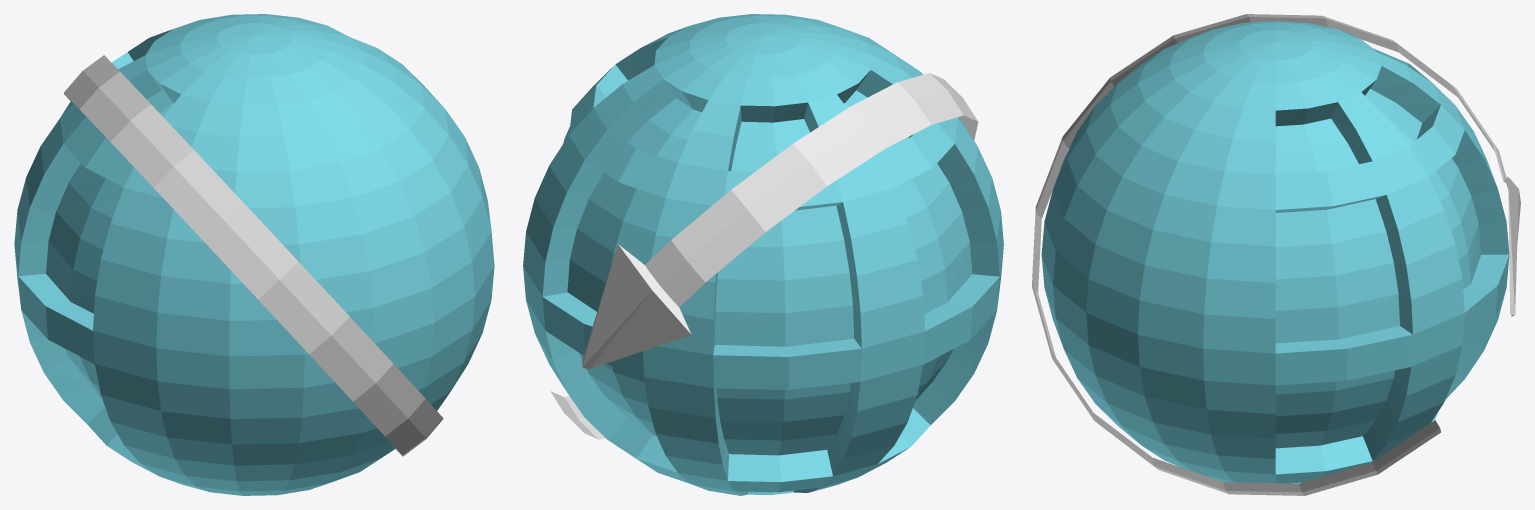
Rendered from interneticon.fbx.
3 renders of one model, left to right at view 1: azimuth 30°, elevation 25°; view 2: azimuth 150°, elevation 25°; view 3: azimuth 270°, elevation 25°, orthographic. The views are drawn at different scales.
Parts seen in each view (by area): view 1: pSphere1, pSphere2; view 2: pSphere1, pSphere2; view 3: pSphere1, pSphere2.
Boxes of the visible parts, box(x1,y1,x2,y2) form: pSphere1: box(14, 14, 494, 495); pSphere2: box(64, 55, 443, 456); pSphere1: box(523, 14, 1003, 495); pSphere2: box(550, 73, 978, 439); pSphere1: box(1041, 21, 1509, 483); pSphere2: box(1032, 14, 1520, 495).
Bounding box in the file's own units: 40 × 40 × 41.8.
